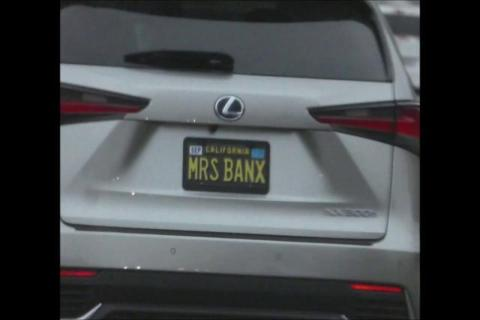LicensePlate: (183, 138, 269, 194)
